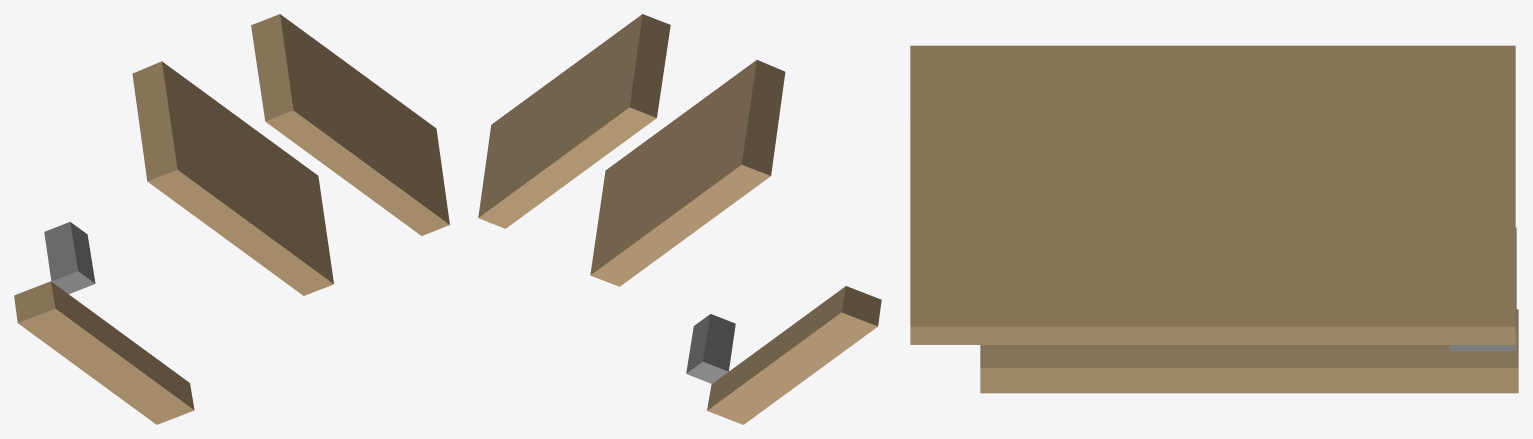
3 renders of one model, left to right at view 1: azimuth 30°, elevation 25°; view 2: azimuth 150°, elevation 25°; view 3: azimuth 270°, elevation 25°, orthographic. The views are drawn at different scales.
Parts seen in each view (by area): view 1: 0_1_3_2_1_1_1_3_3; view 2: 0_1_3_2_1_1_1_3_3; view 3: 0_1_3_2_1_1_1_3_3.
Part boxes in pixels (box(x1,y1,x2,y2)): 0_1_3_2_1_1_1_3_3: box(14, 14, 449, 424); 0_1_3_2_1_1_1_3_3: box(478, 14, 881, 424); 0_1_3_2_1_1_1_3_3: box(910, 45, 1518, 393).
Bounding box in the file's own units: 27.77 × 23.41 × 27.13.
